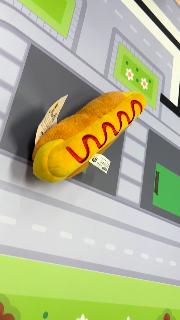hotdog: (32, 90, 146, 184)
